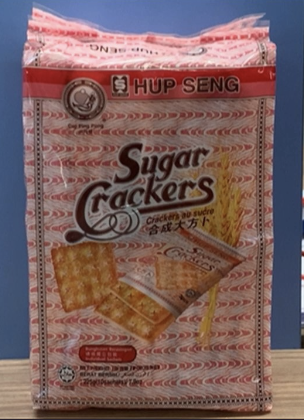crackers_150g: (46, 64, 255, 390)
